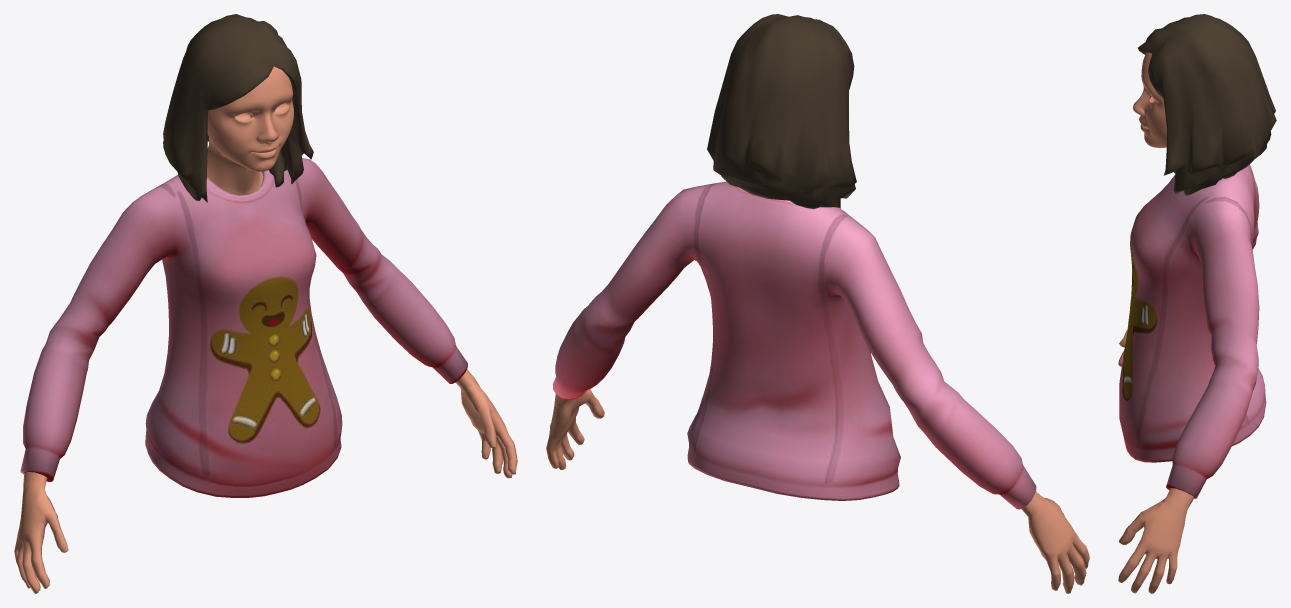
3 views of the same model, side by side, from view 1: azimuth 30°, elevation 25°; view 2: azimuth 150°, elevation 25°; view 3: azimuth 270°, elevation 25° (orthographic). The views are drawn at different scales.
Visible parts, largest first — view 1: Wolf3D_Outfit_Top, Wolf3D_Hair, Wolf3D_Head, Wolf3D_Body.001; view 2: Wolf3D_Outfit_Top, Wolf3D_Hair, Wolf3D_Body.001; view 3: Wolf3D_Outfit_Top, Wolf3D_Hair, Wolf3D_Body.001, Wolf3D_Head.
Boxes of the visible parts, bbox=[...] form: Wolf3D_Outfit_Top: bbox=[20, 158, 467, 497]; Wolf3D_Hair: bbox=[163, 14, 313, 202]; Wolf3D_Head: bbox=[207, 66, 293, 195]; Wolf3D_Body.001: bbox=[14, 369, 517, 593]; Wolf3D_Outfit_Top: bbox=[552, 181, 1036, 509]; Wolf3D_Hair: bbox=[707, 14, 856, 209]; Wolf3D_Body.001: bbox=[546, 389, 1089, 593]; Wolf3D_Outfit_Top: bbox=[1119, 164, 1266, 498]; Wolf3D_Hair: bbox=[1138, 14, 1276, 195]; Wolf3D_Body.001: bbox=[1118, 329, 1193, 593]; Wolf3D_Head: bbox=[1133, 52, 1166, 147].
Size of the model in its own units: 9.48 by 9.13 by 2.82.
Materials: 3 (2 with a texture image).
